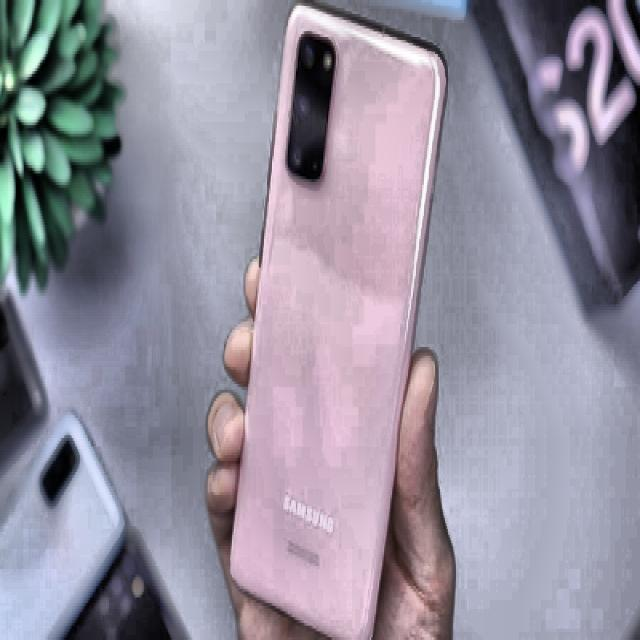Phone: (226, 0, 449, 640), (6, 414, 125, 640)
